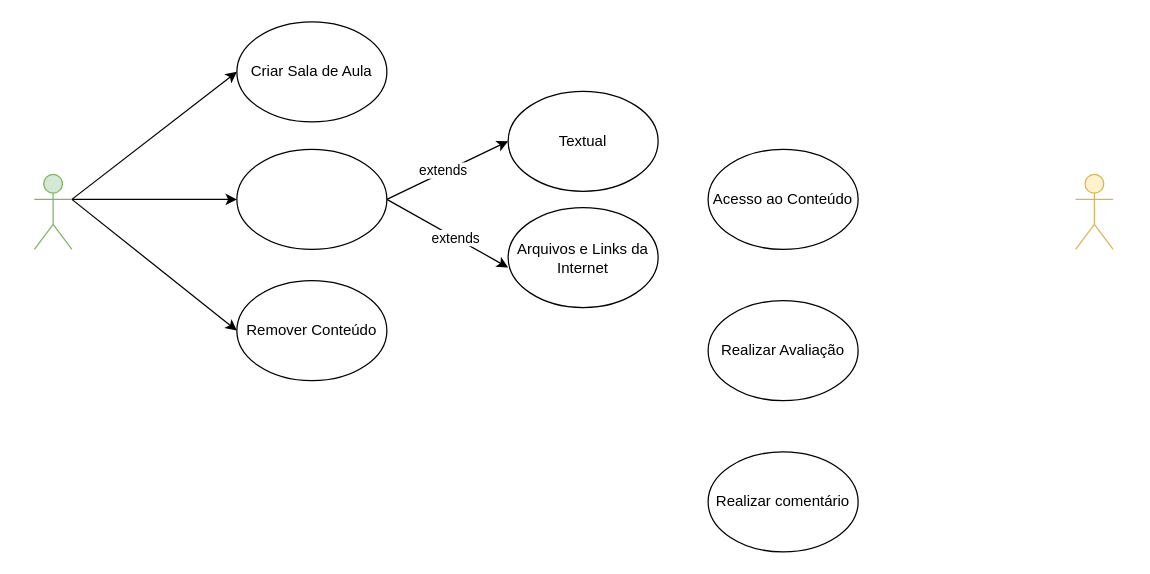
Image size: 1150x574. Some labels were removed from this diagram. The box of each missing label's shape, as (x1, y1, x2, y2) in pixels:
Adicionar Conteúdo: (236, 148, 387, 249)
Estudante: (1074, 173, 1113, 249)
Professor: (33, 173, 72, 249)
